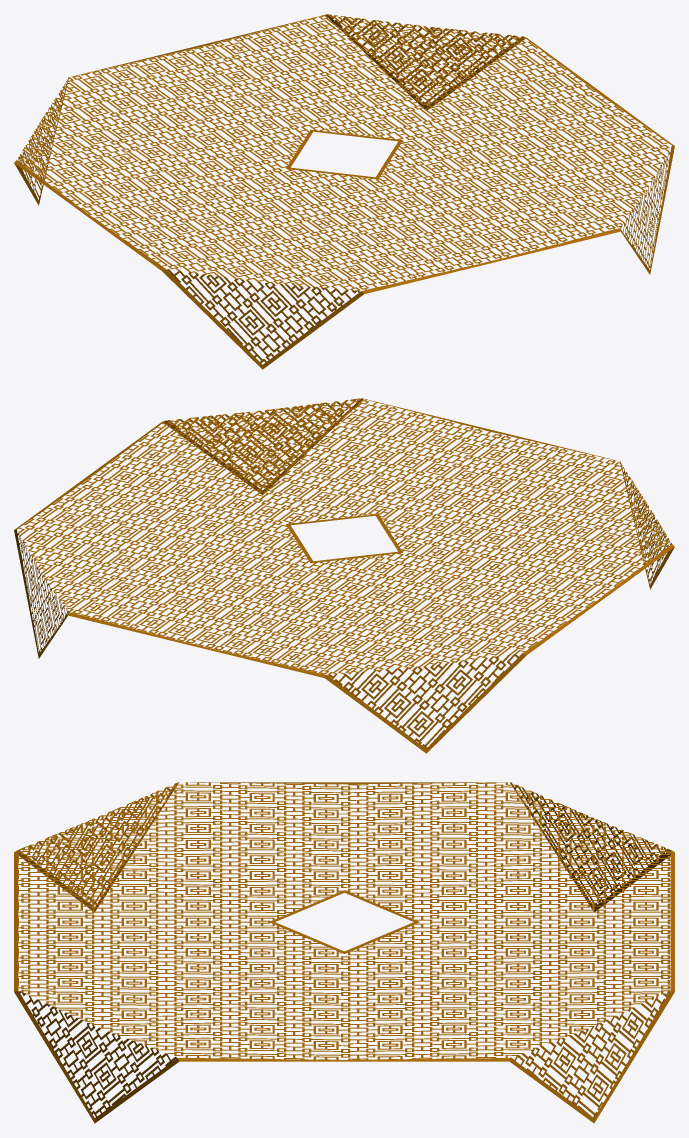
The model's file is Tablecloth.fbx.
The picture shows the model from 3 angles, top to bottom: view 1: azimuth 30°, elevation 25°; view 2: azimuth 150°, elevation 25°; view 3: azimuth 270°, elevation 25°; orthographic projection. The views are drawn at different scales.
Visible parts, largest first — view 1: Tablecloth; view 2: Tablecloth; view 3: Tablecloth.
Part boxes in pixels (bbox=[...]): Tablecloth: bbox=[14, 14, 674, 369]; Tablecloth: bbox=[14, 398, 674, 753]; Tablecloth: bbox=[14, 782, 674, 1123].
Size of the model in its own units: 191 by 31.32 by 191.
